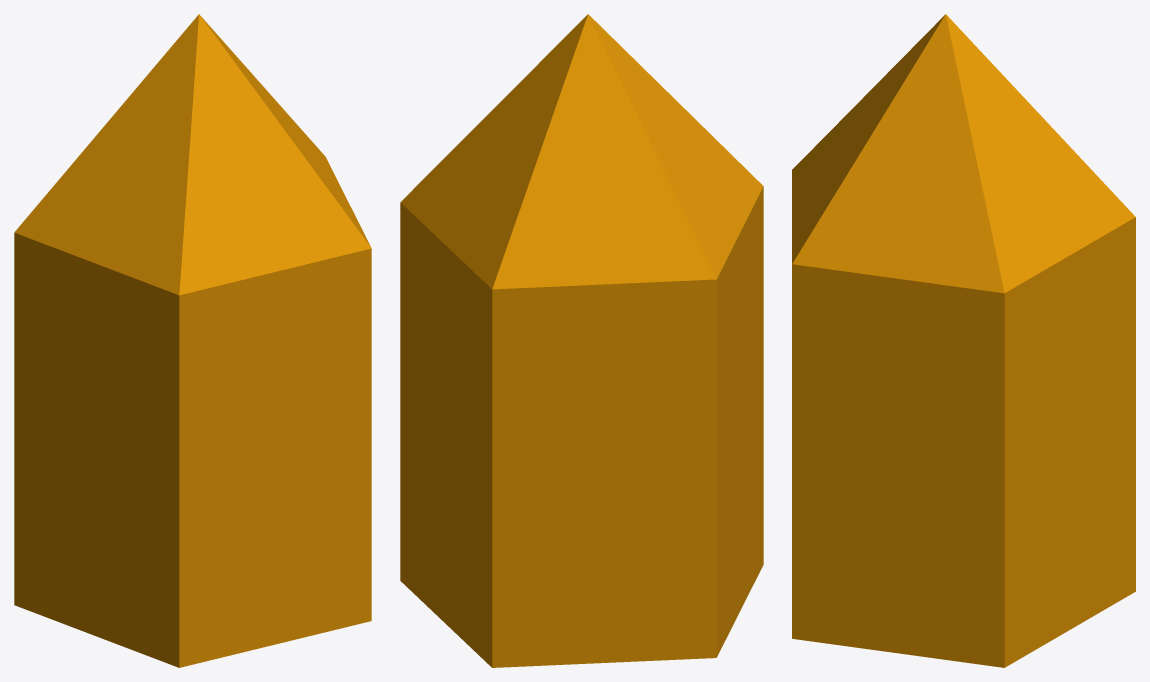
The model's file is Sleeve.fbx.
3 views of the same model, side by side, from view 1: azimuth 30°, elevation 25°; view 2: azimuth 150°, elevation 25°; view 3: azimuth 270°, elevation 25° (orthographic).
Visible parts, largest first — view 1: Cone; view 2: Cone; view 3: Cone.
Part boxes in pixels (x1=…): Cone: x1=14, y1=14, x2=371, y2=667; Cone: x1=400, y1=14, x2=763, y2=667; Cone: x1=792, y1=14, x2=1135, y2=667.
Bounding box in the file's own units: 190 × 335 × 181.
